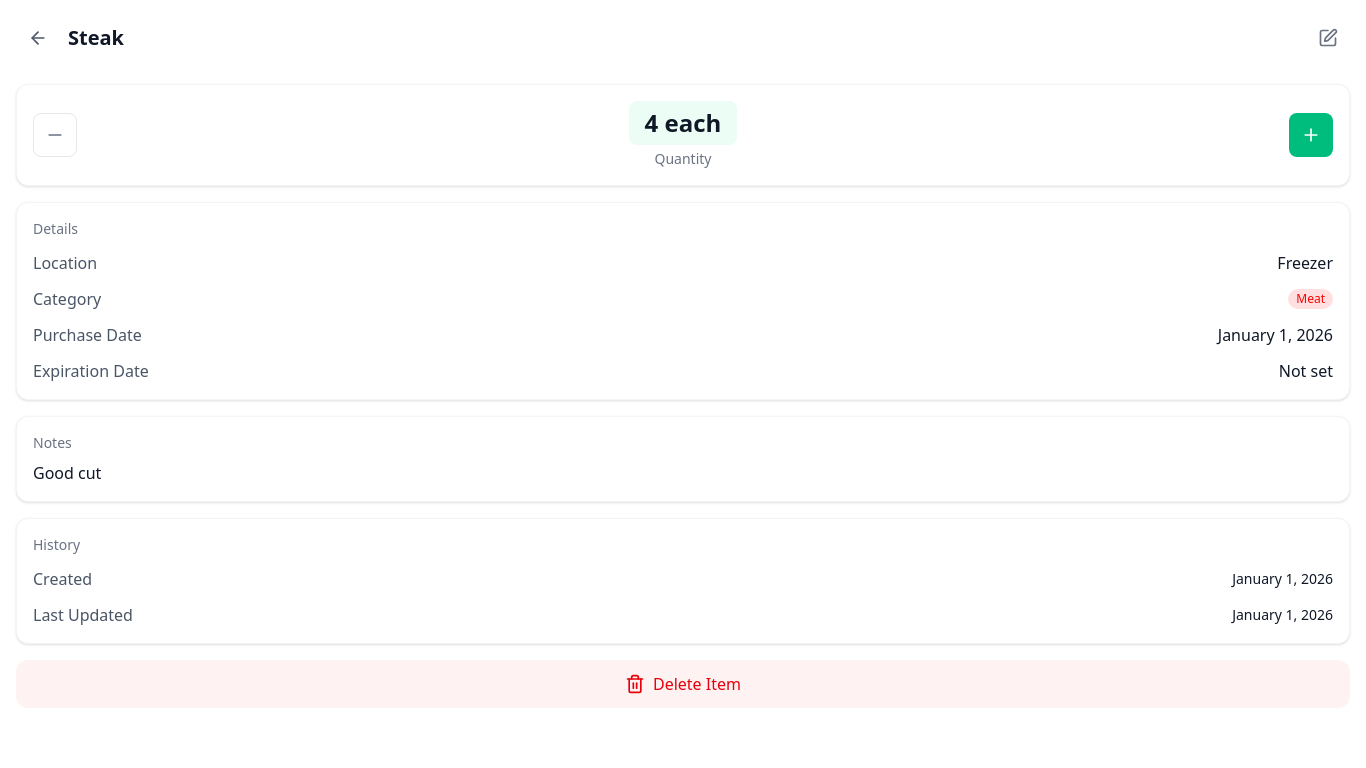
Test: ItemDetailPage › shows direct input when quantity is tapped
Click the button with aria-label "Tap to edit quantity": (683, 123) [629,101,737,145]
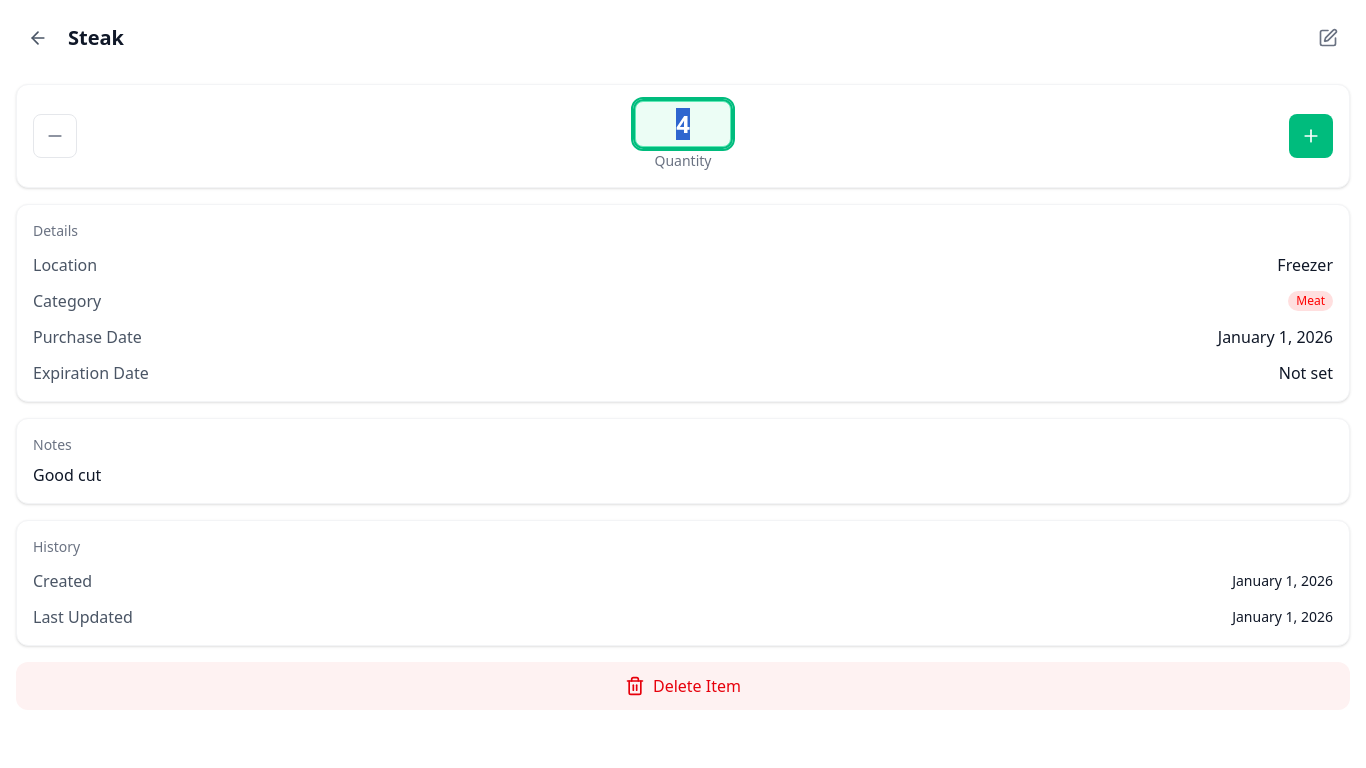
Expected: the number field is shown, [635,101,731,147]
